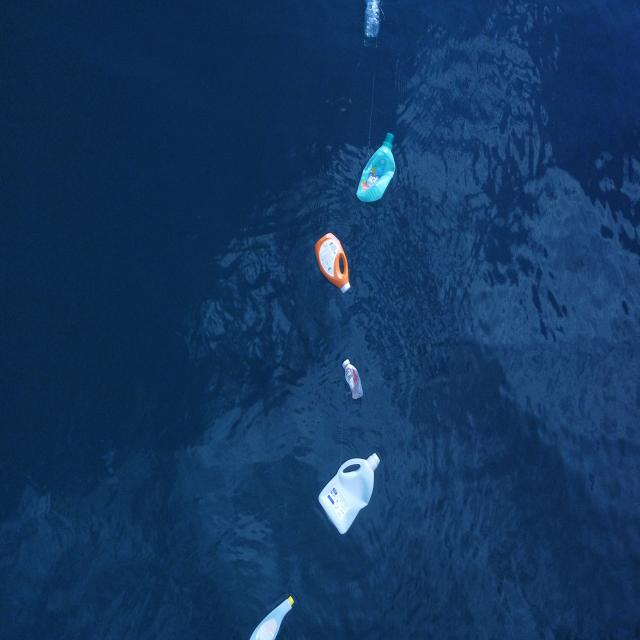bottles: (316, 446, 382, 537), (353, 129, 398, 206), (244, 588, 300, 640), (312, 227, 353, 295), (341, 354, 366, 402), (360, 0, 383, 40)
